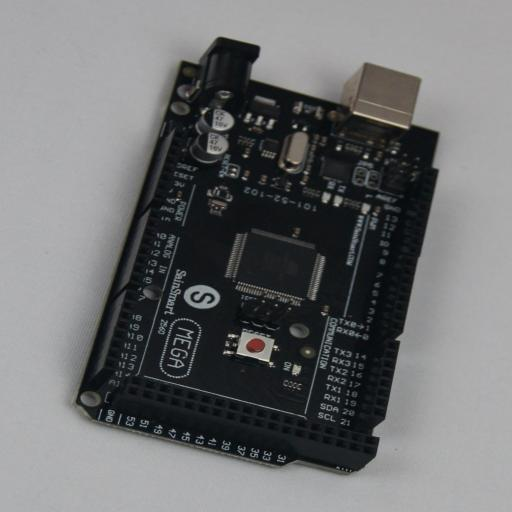Arduino Mega 2560 -Black-: (75, 37, 439, 475)
